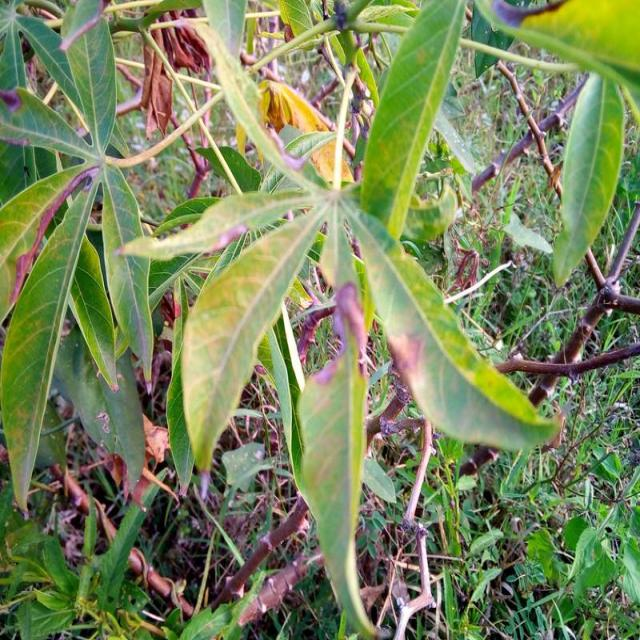cassava leaf: (340, 187, 562, 453), (358, 0, 467, 242), (550, 69, 625, 287)
